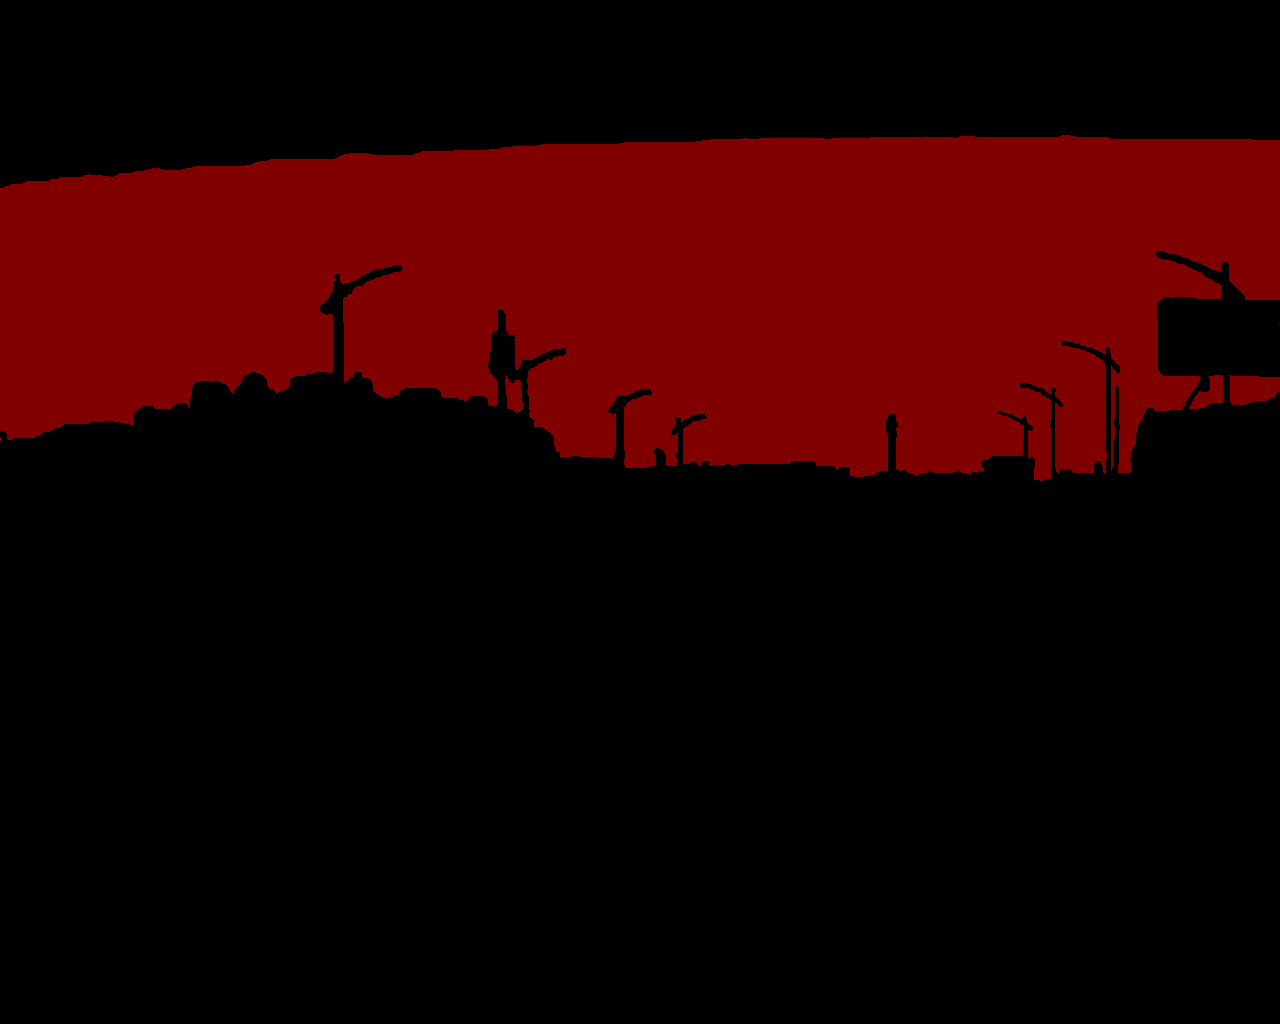Sky: (1, 136, 1279, 481)
